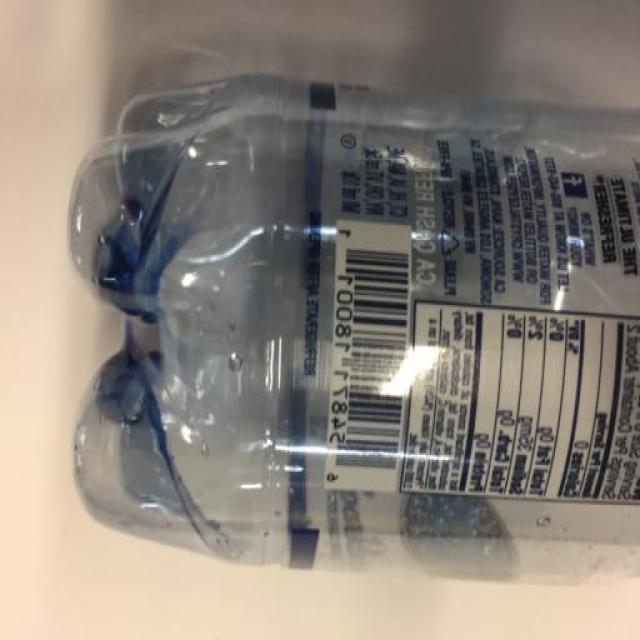Plastic: (66, 70, 640, 585)
